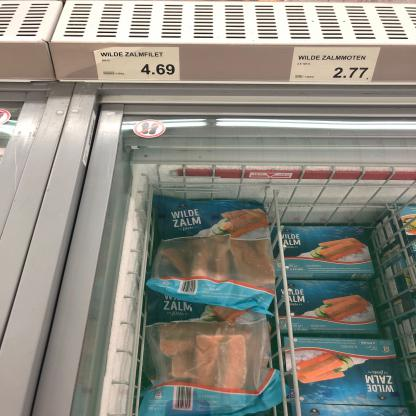prtg: (288, 48, 383, 84), (95, 47, 182, 82)
